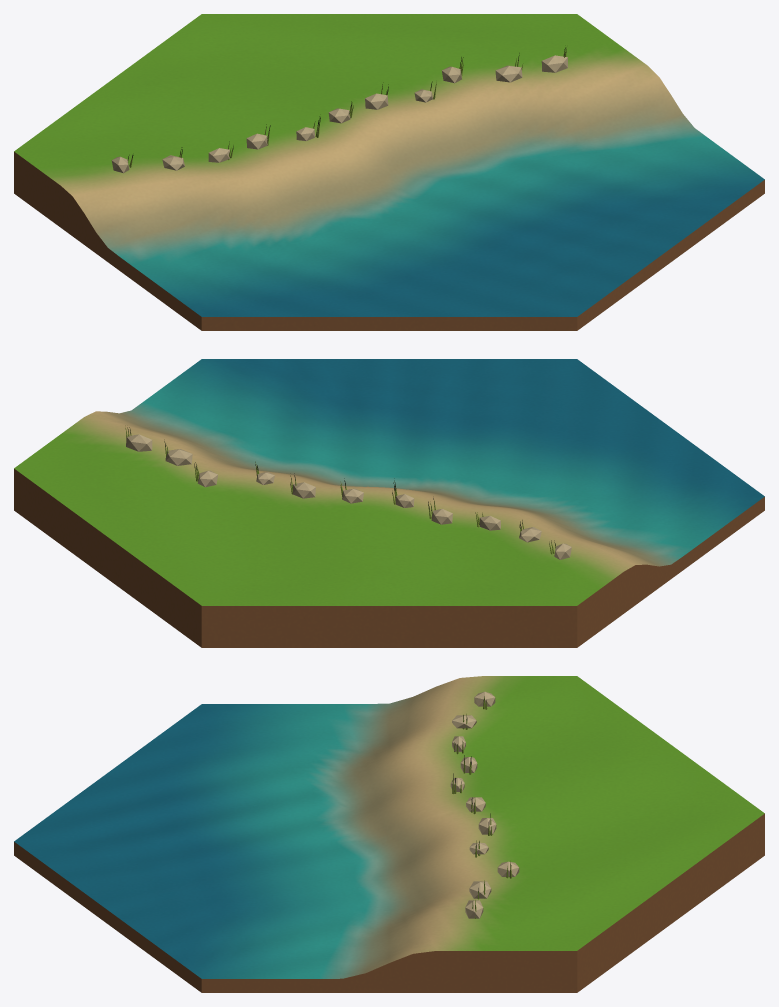
The model's file is SM_CostaNatural_A_LOD0.fbx.
3 renders of one model, top to bottom at view 1: azimuth 30°, elevation 25°; view 2: azimuth 150°, elevation 25°; view 3: azimuth 270°, elevation 25°, orthographic.
Parts seen in each view (by area): view 1: SM_CostaNatural_A_LOD0; view 2: SM_CostaNatural_A_LOD0; view 3: SM_CostaNatural_A_LOD0.
Boxes of the visible parts, x1,y1,x2,y2 form: SM_CostaNatural_A_LOD0: [14, 14, 764, 330]; SM_CostaNatural_A_LOD0: [14, 359, 764, 647]; SM_CostaNatural_A_LOD0: [14, 676, 764, 992].
Size of the model in its own units: 1.68 by 0.1854 by 1.94.
Materials: 1 (1 with a texture image).
